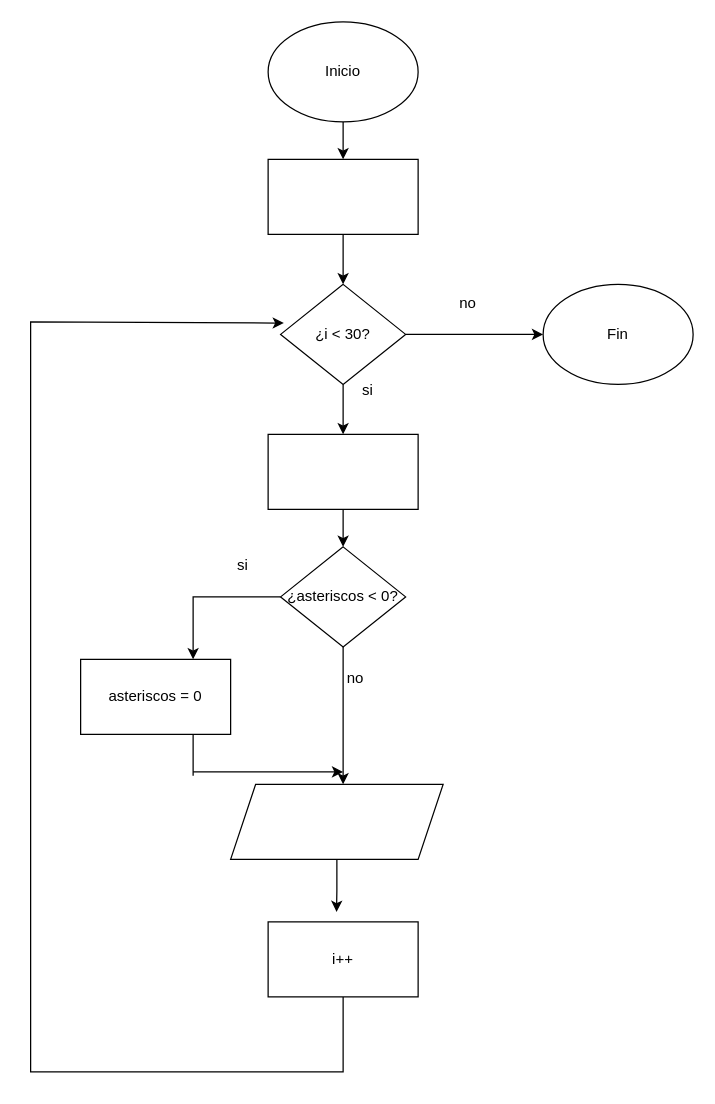
Image size: 715x1104. Some labels were removed from this diagram. The centre of each missing label's shape, as x and y in pixels:
"asteriscos = (int) temperaturas[i]" goes at point (342, 471).
"i = 0" goes at point (342, 196).
"Mostrar histograma (Dia + 1, temperatura(ºC) y astericos" goes at point (336, 821).
